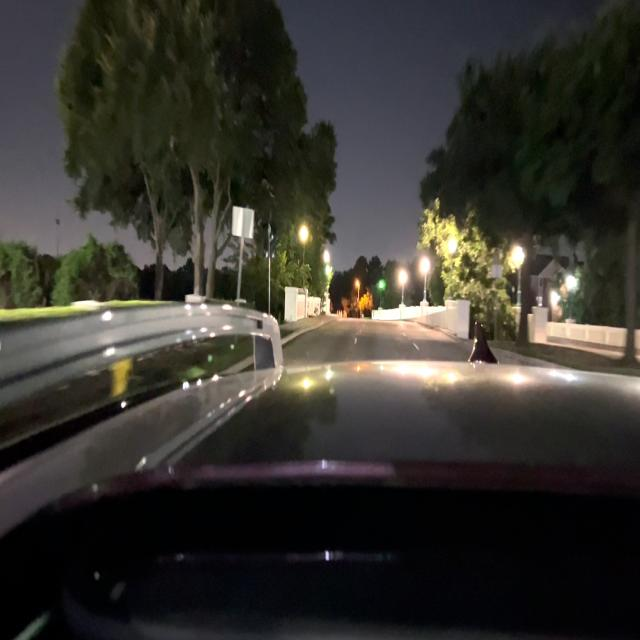back-of-sign: (232, 202, 256, 242)
